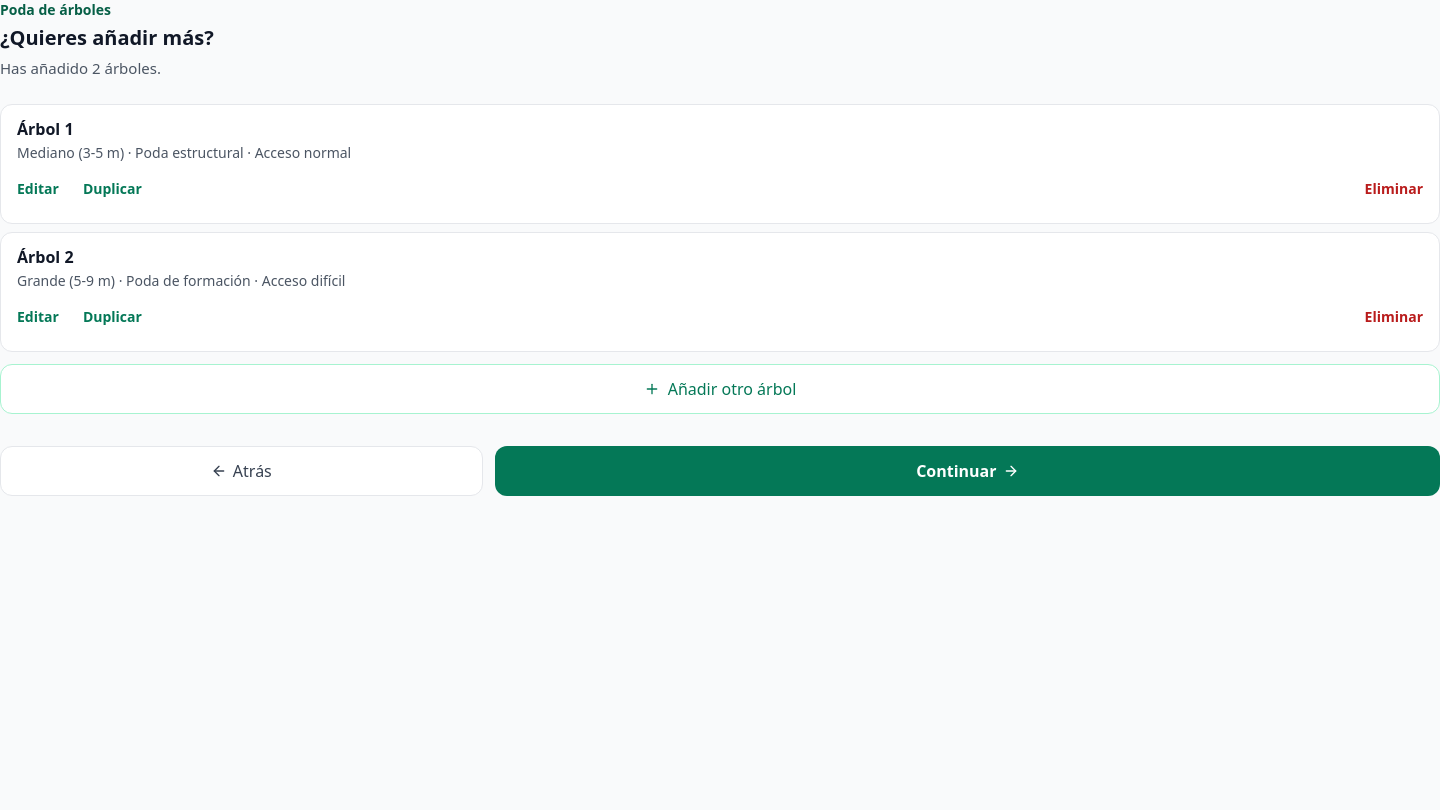
lista de elementos › eliminar pide confirmación y quita el elemento del borrador
Earlier steps of the test are not shown.
Expected: the text "Has añadido 2 árboles." is shown, left=0, top=58, right=161, bottom=78
Click the button with aria-label "Eliminar árbol 1": {"x": 1394, "y": 189} left=1353, top=167, right=1435, bottom=211
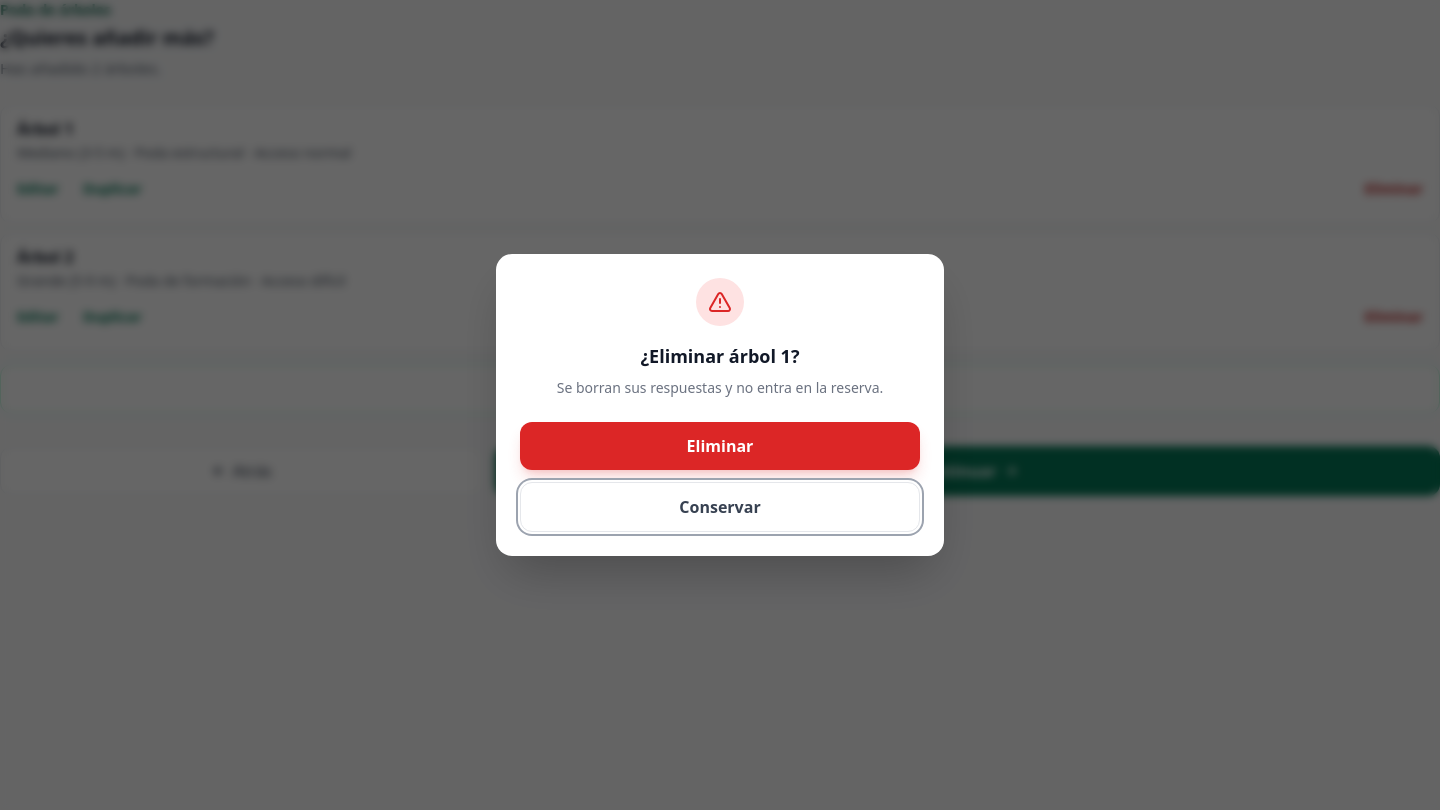
Now the heading "¿Eliminar árbol 1?" is shown, box left=640, top=342, right=800, bottom=370
Click the button "Eliminar": {"x": 720, "y": 446} left=520, top=422, right=920, bottom=470
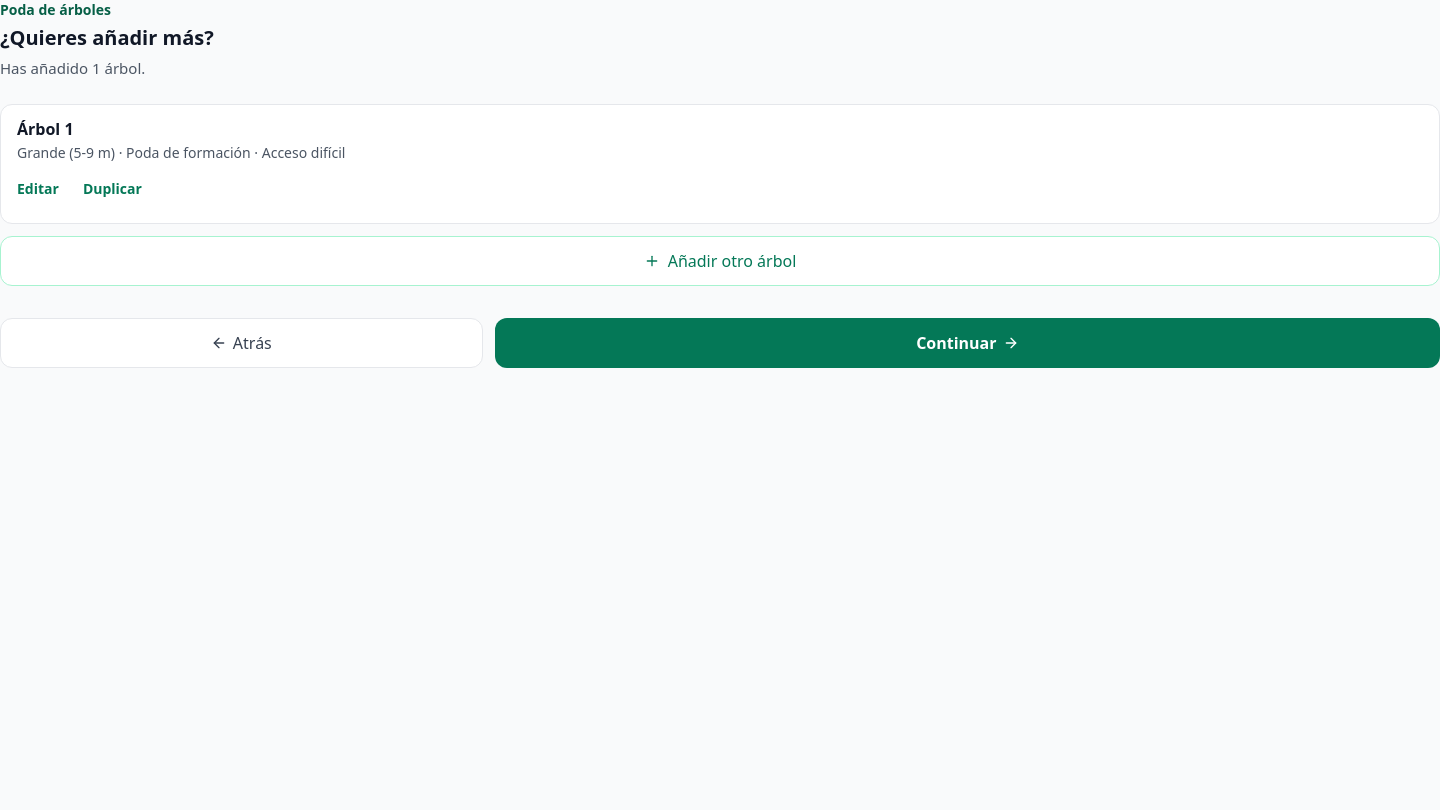
Now the text "Has añadido 1 árbol." is shown, box left=0, top=58, right=145, bottom=78
